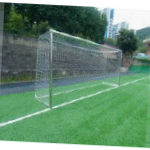goals: (33, 28, 124, 111)
